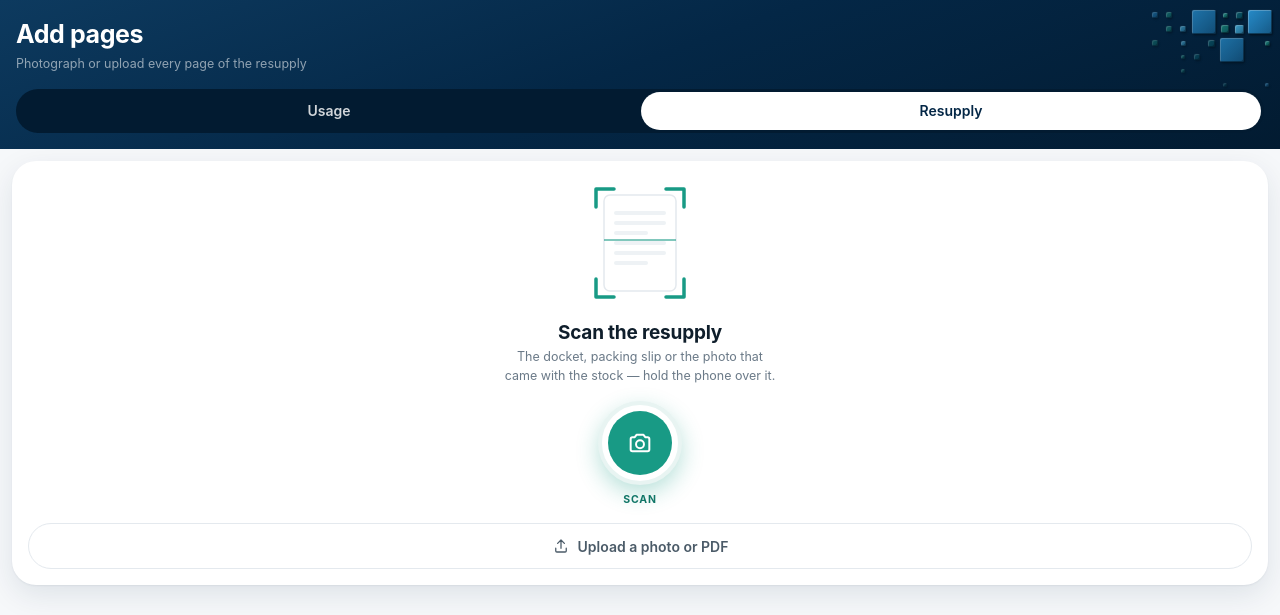
Test: the resupply scanner › switches back to usage scanning
Step 1. Click the tab "Usage" → click(329, 111), box [19, 92, 639, 130]
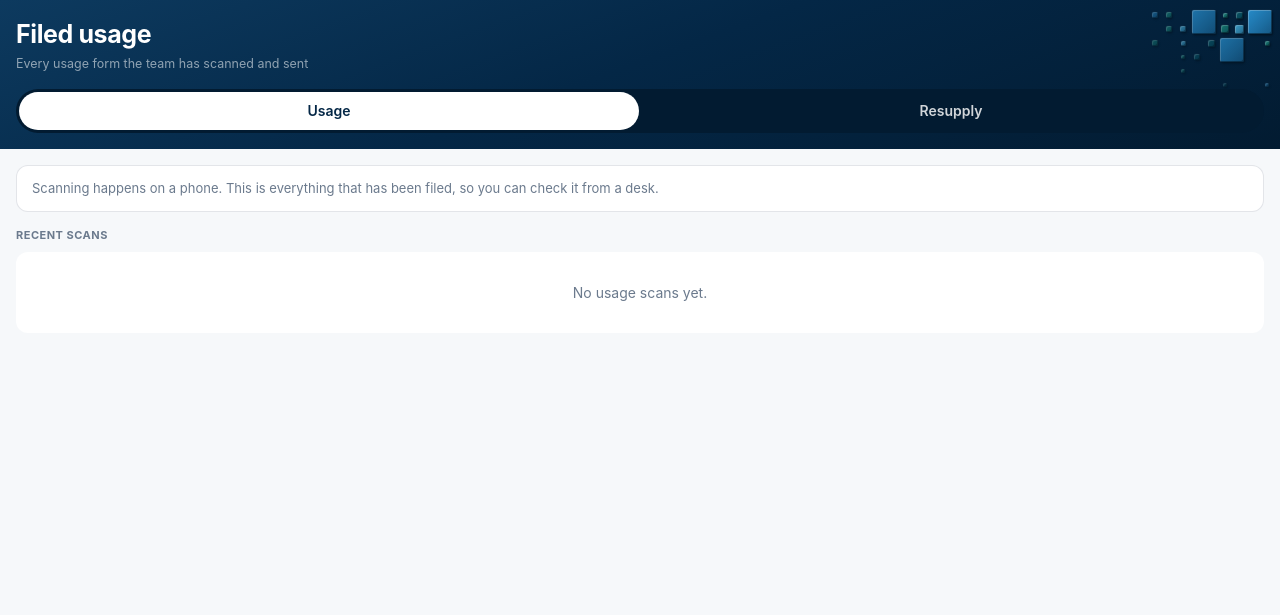
Check: the tab "Usage" is selected, box [19, 92, 639, 130]
